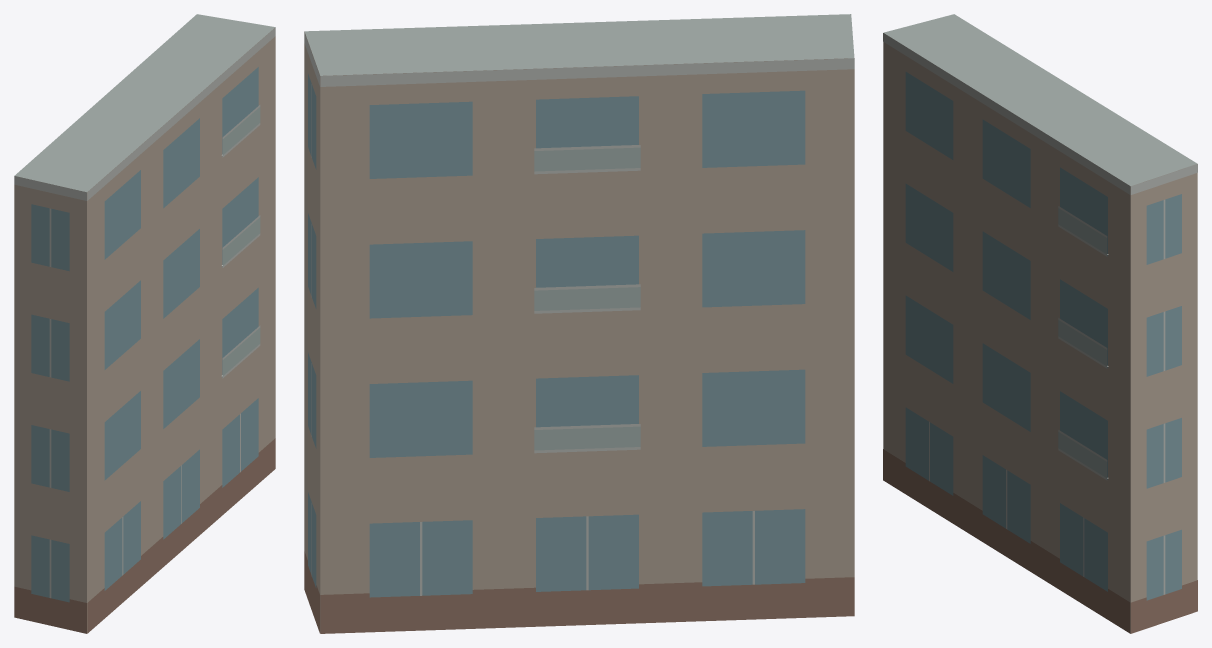
File: survey-upis-32625115.glb
3 renders of one model, left to right at view 1: azimuth 30°, elevation 25°; view 2: azimuth 150°, elevation 25°; view 3: azimuth 270°, elevation 25°, orthographic. The views are drawn at different scales.
Parts seen in each view (by area): view 1: survey-upis-32625115.tmp; view 2: survey-upis-32625115.tmp; view 3: survey-upis-32625115.tmp.
Part boxes in pixels (x1,y1,x2,y2): survey-upis-32625115.tmp: [14, 14, 275, 633]; survey-upis-32625115.tmp: [304, 14, 854, 633]; survey-upis-32625115.tmp: [883, 14, 1197, 633].
Size of the model in its own units: 10.08 by 12.2 by 7.78.
